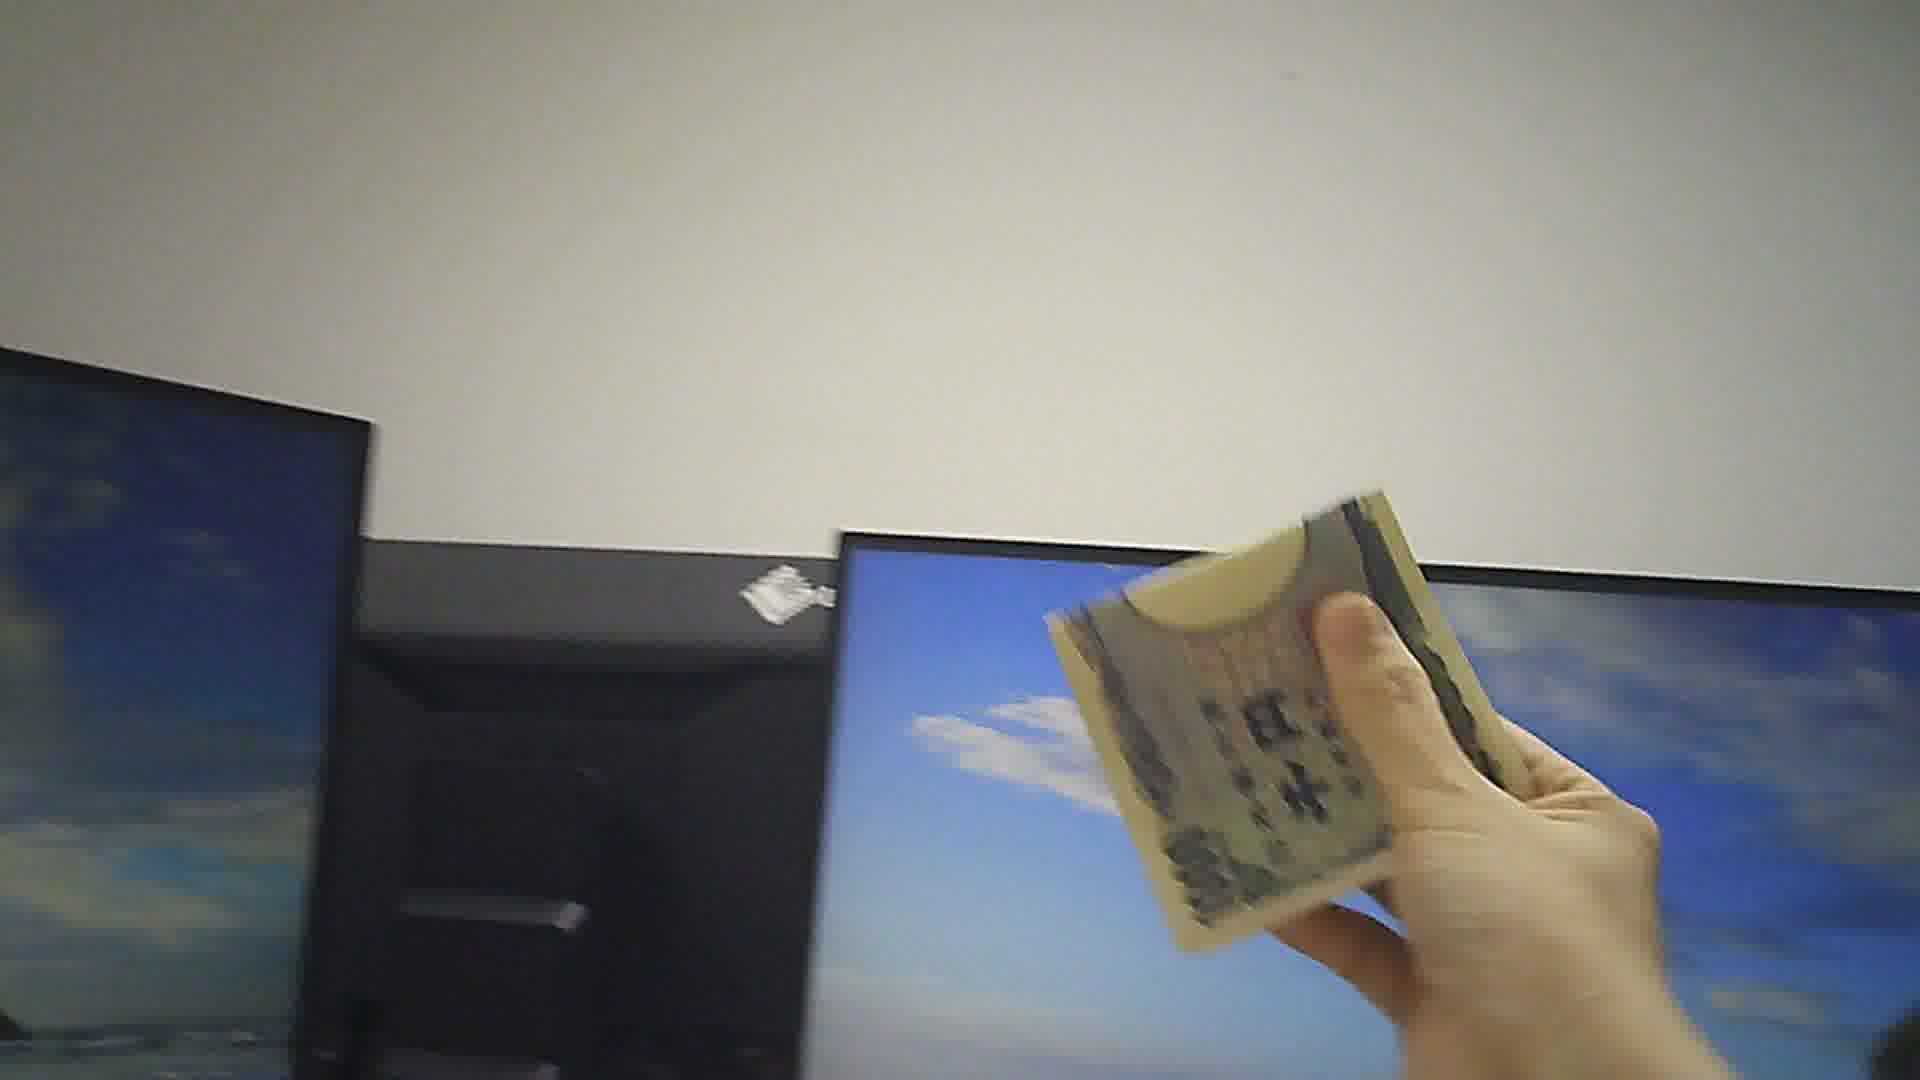1,000 Yen: (1052, 462, 1551, 924)
